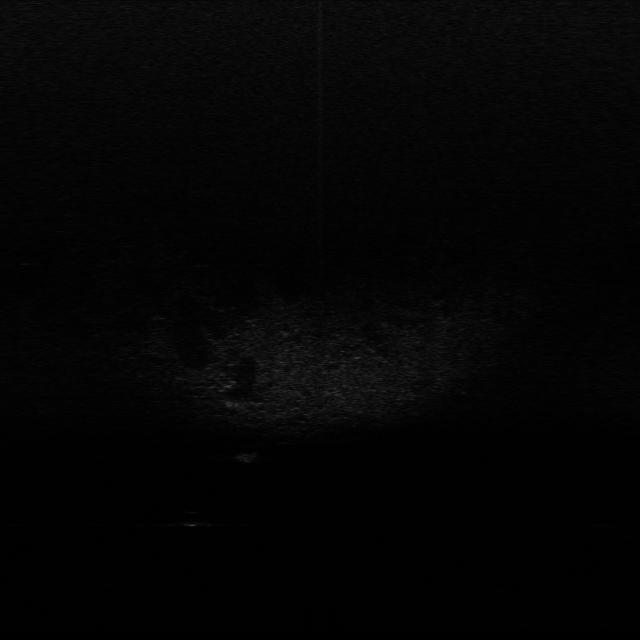ball: (180, 505, 210, 531)
cube: (234, 445, 260, 465)
